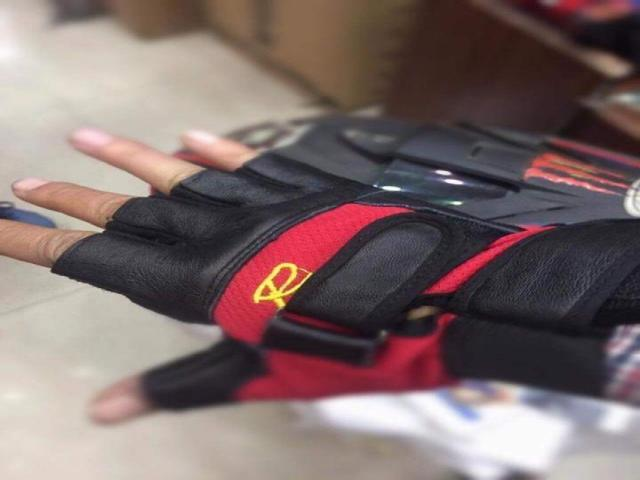Hand-in-Glove: (1, 109, 611, 433)
